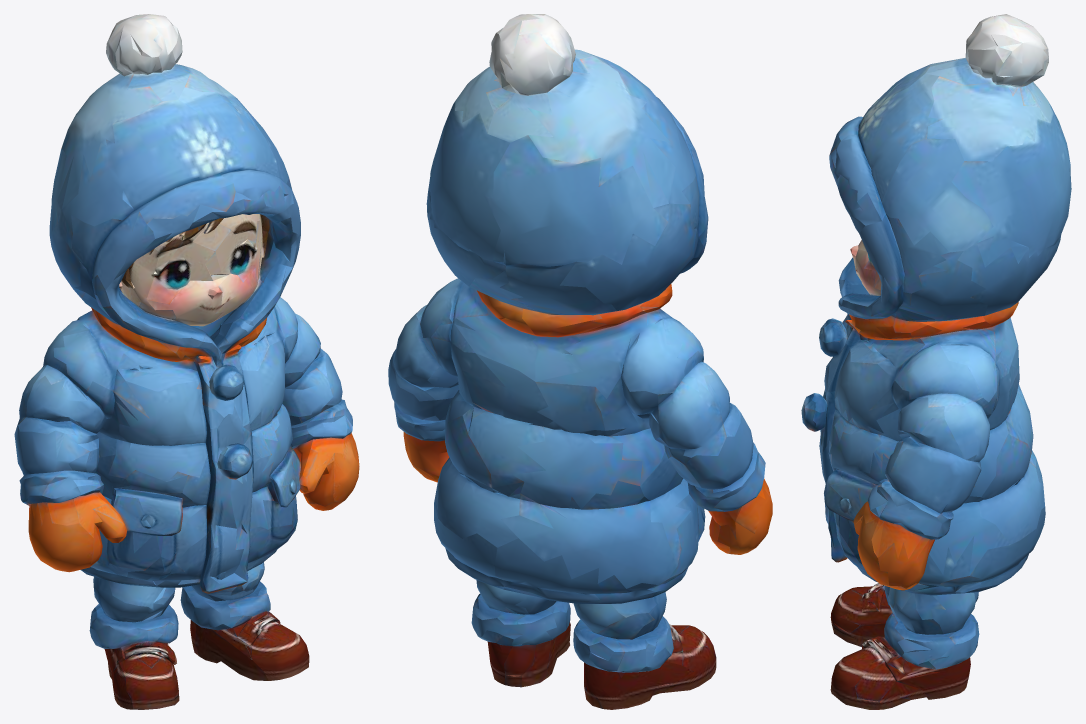
File: villager.glb
3 renders of one model, left to right at view 1: azimuth 30°, elevation 25°; view 2: azimuth 150°, elevation 25°; view 3: azimuth 270°, elevation 25°, orthographic. The views are drawn at different scales.
Size of the model in its own units: 1.03 by 1.9 by 0.7192.
1 material, 1 textured.
